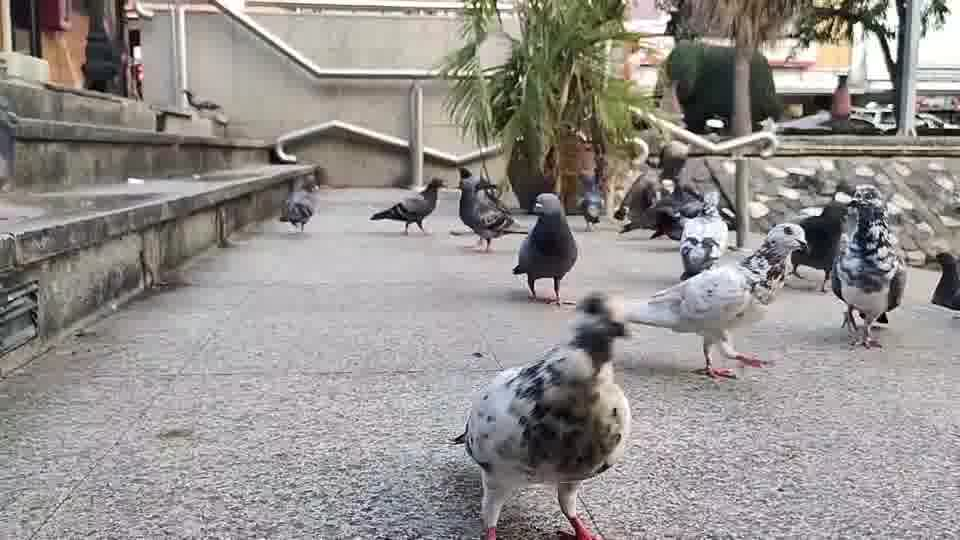Pigeon: (448, 291, 632, 539), (622, 221, 808, 380), (829, 185, 906, 349), (511, 191, 578, 306), (452, 166, 522, 252), (368, 176, 446, 235), (279, 173, 320, 232), (929, 250, 959, 318), (575, 190, 603, 231)
